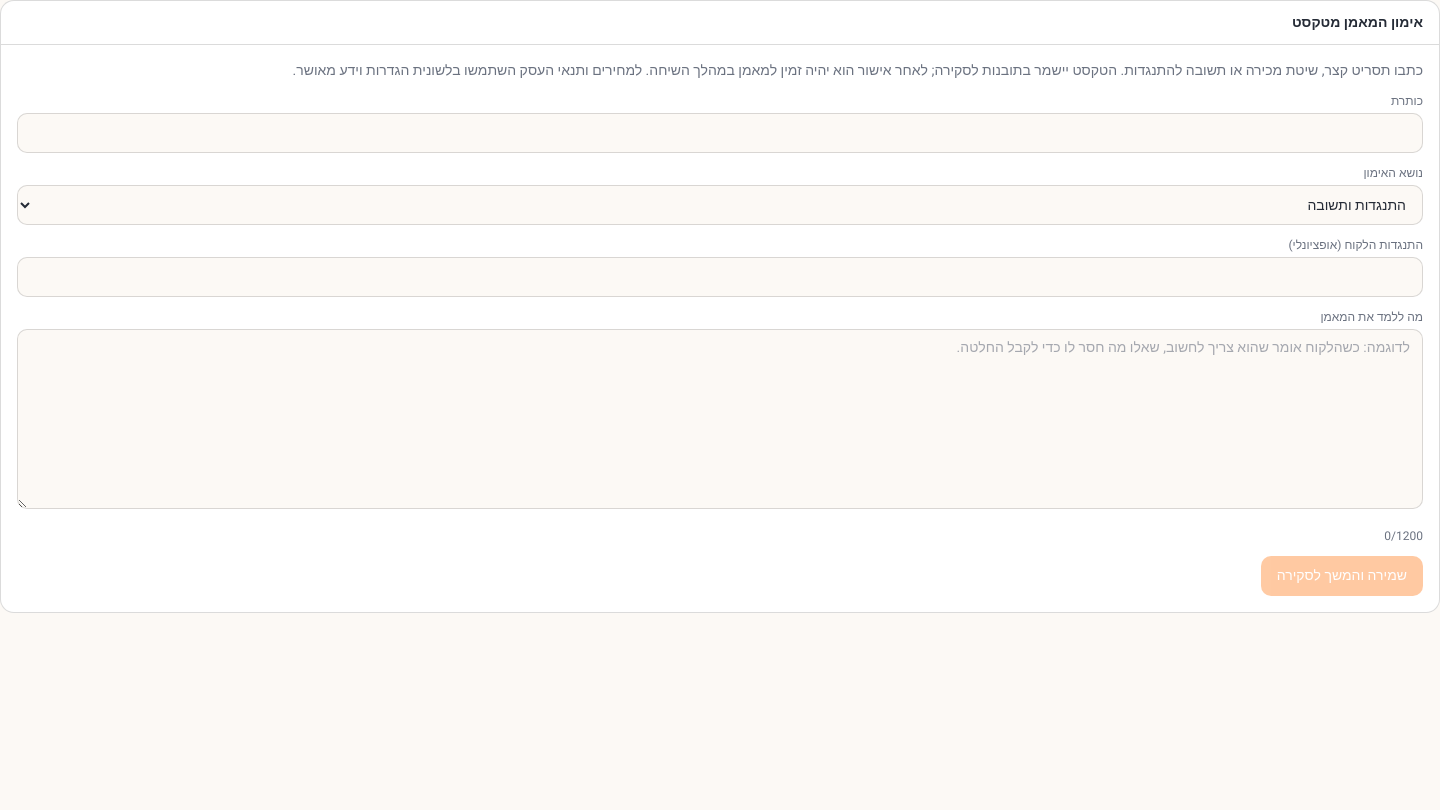
Test case: retains the entered text when saving fails
Type "כותרת" into the field labelled "כותרת" at coordinates (720, 133), box x1=17 y1=113 x2=1423 y2=153
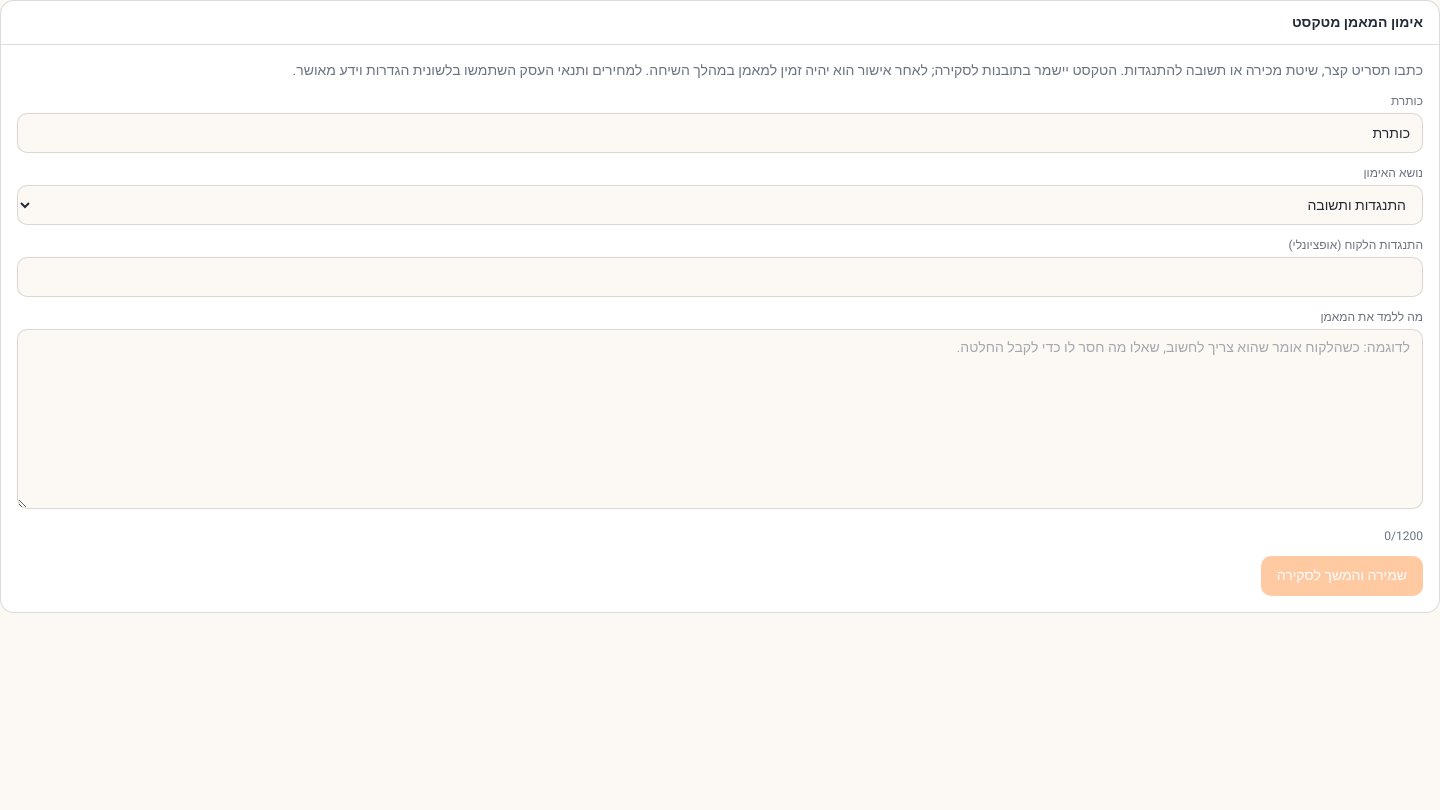
Replace the text in the text box labelled "מה ללמד את המאמן" with "תוכן חשוב" at coordinates (720, 419), box x1=17 y1=329 x2=1423 y2=509
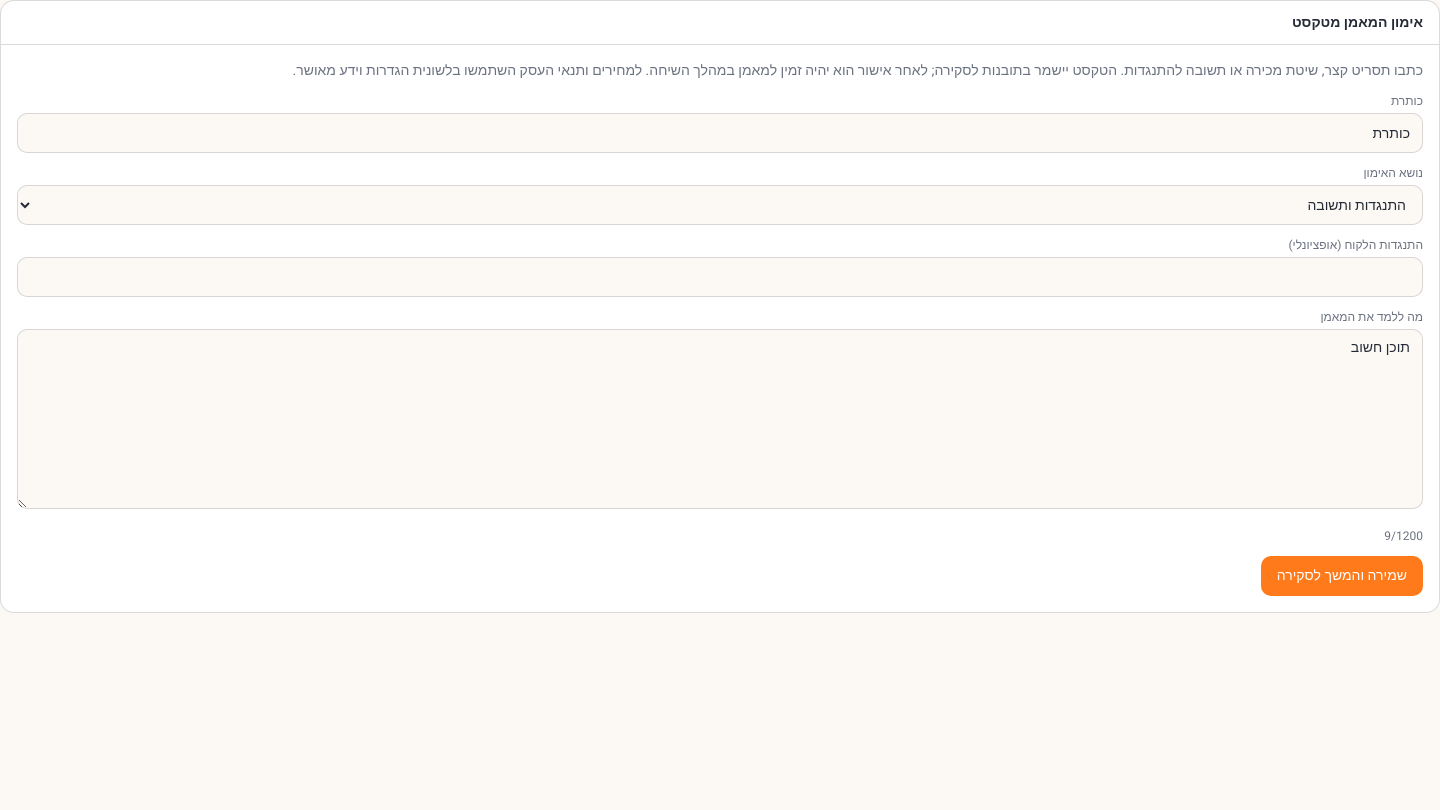
Click the button "שמירה והמשך לסקירה" at coordinates (1342, 576), box x1=1261 y1=556 x2=1423 y2=596
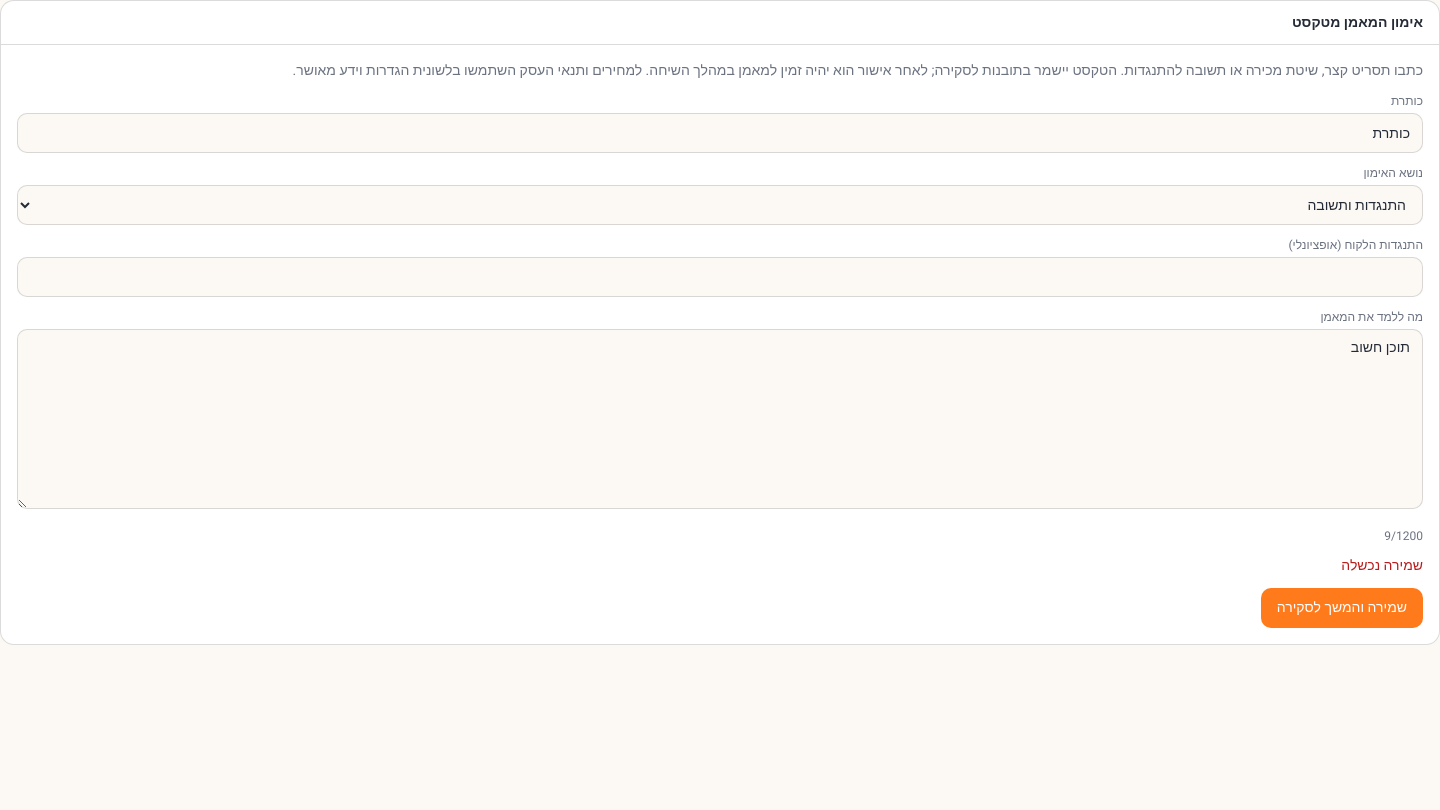
Check: the message reads "שמירה נכשלה", box x1=1341 y1=555 x2=1423 y2=576
